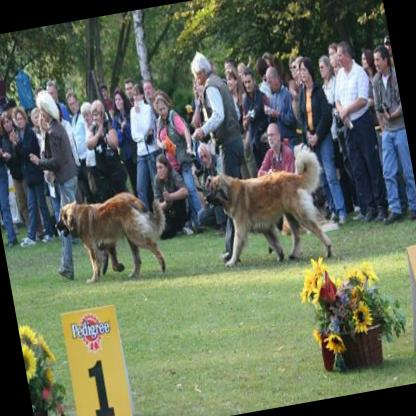Leonberg: (196, 136, 336, 278), (50, 182, 172, 289)
